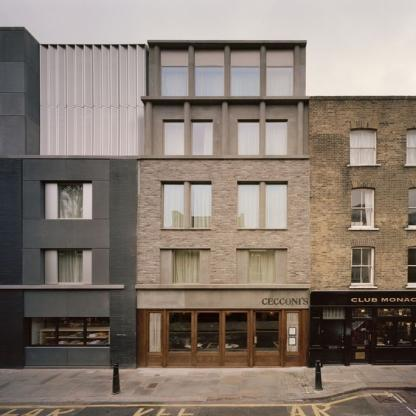Building Outline: (135, 40, 311, 368)
Door: (253, 310, 282, 367)
Facade: (135, 40, 311, 368)
Floor Slab: (137, 235, 309, 242), (137, 156, 309, 162), (137, 285, 309, 291), (146, 96, 309, 102)
Pillar: (146, 102, 153, 155), (221, 102, 228, 155), (184, 102, 191, 155), (297, 102, 303, 155), (260, 102, 266, 155), (294, 46, 300, 96), (154, 46, 160, 96), (224, 46, 230, 96), (261, 46, 267, 96), (189, 46, 195, 96)
Shop: (169, 313, 192, 352), (197, 313, 220, 352), (225, 313, 248, 352), (287, 313, 299, 352), (149, 313, 161, 352), (261, 297, 308, 306)
Window: (266, 185, 288, 228), (237, 185, 259, 228), (247, 250, 275, 283), (172, 250, 200, 283), (230, 67, 260, 96), (191, 185, 211, 228), (195, 67, 224, 96), (165, 185, 184, 228), (267, 67, 294, 96), (161, 67, 188, 96), (266, 122, 288, 156), (238, 122, 259, 156), (193, 122, 213, 156), (165, 122, 184, 156)
